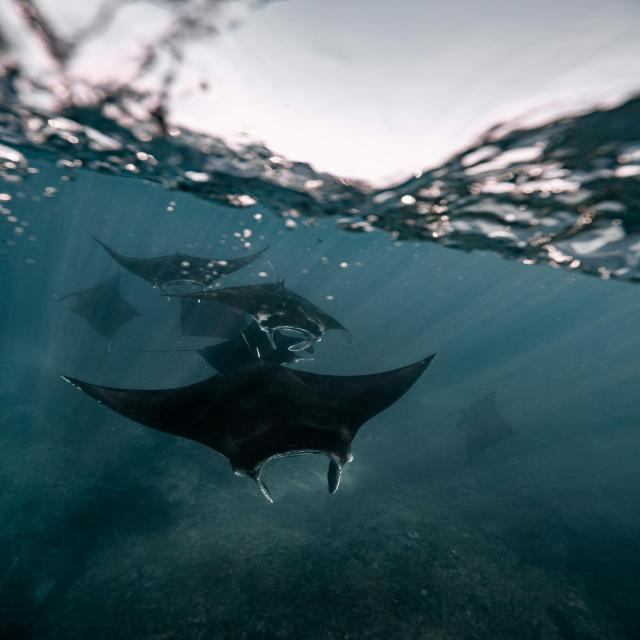stingray: (63, 354, 435, 498), (171, 279, 352, 352), (97, 241, 269, 291), (62, 275, 139, 341)
